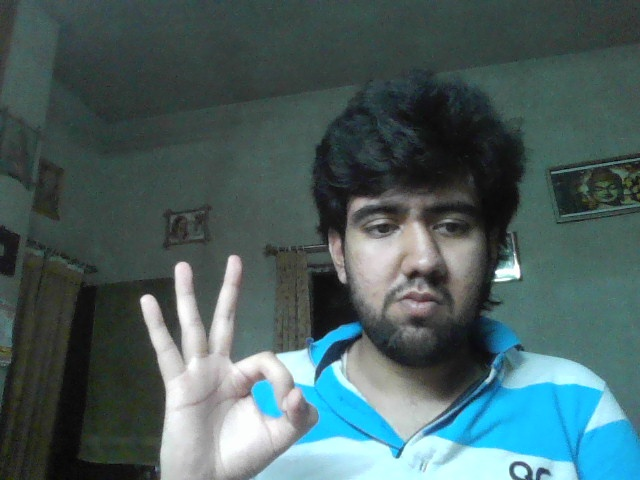Nice: (138, 254, 318, 480)
